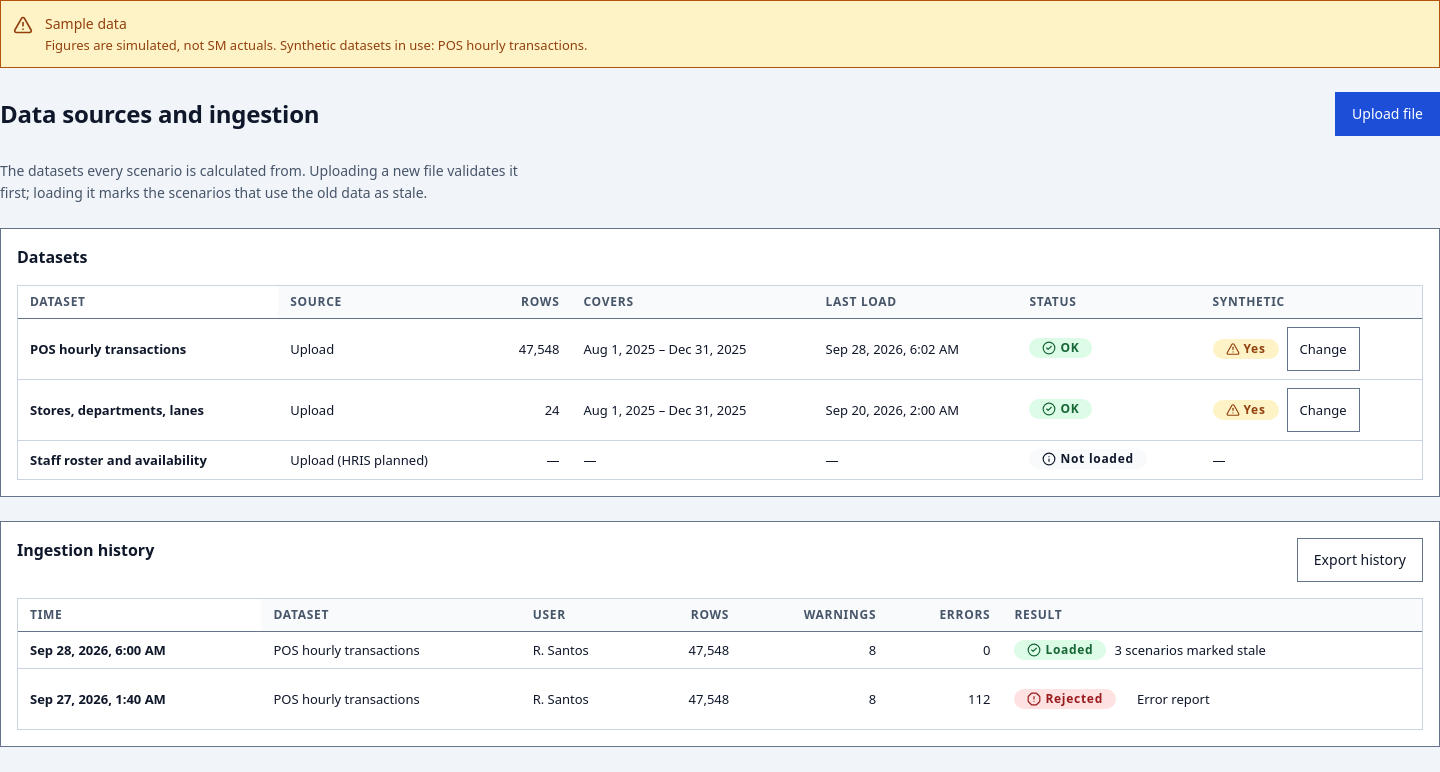
SCR-050 Data sources and ingestion › shows the 403 when the flag change is refused
The width and height of the screenshot is (1440, 772).
Click the button with aria-label "Change the synthetic flag for POS hourly transactions".
click(1323, 349)  # box [1287,327,1360,371]
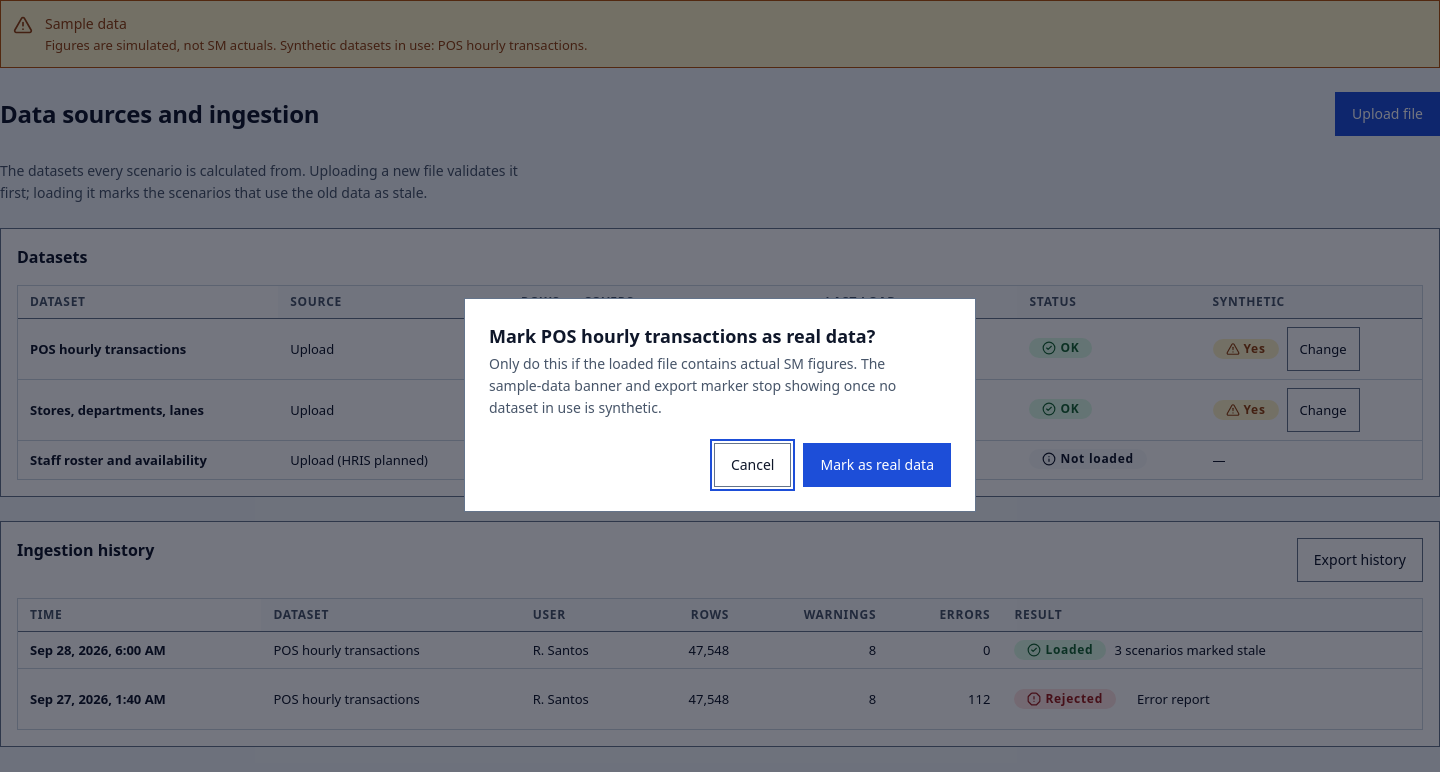
Click the button "Mark as real data".
click(877, 465)  # box [804,443,951,487]
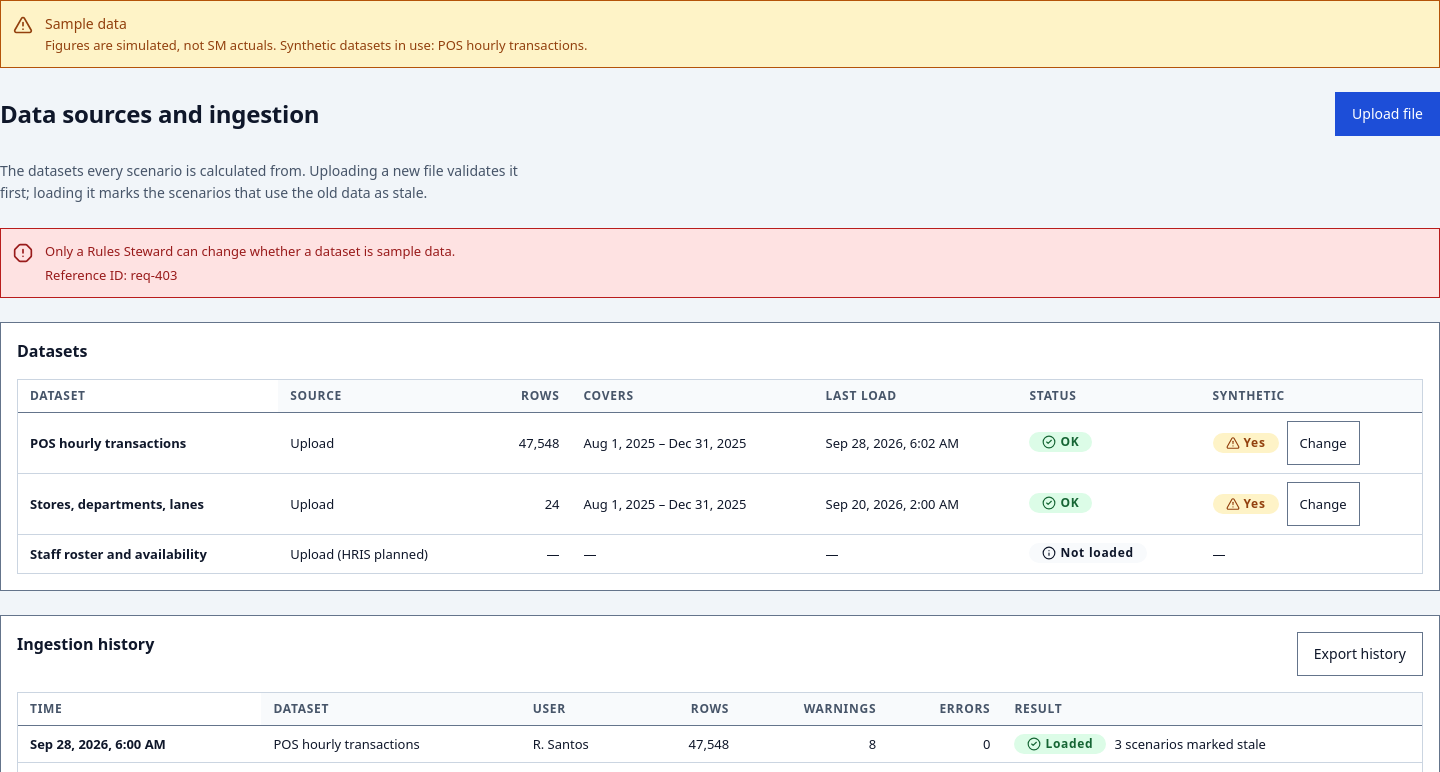
expect the text "Only a Rules Steward can change whether a dataset is sample data." is shown: met, box [45,242,455,260]
expect the text "req-403" is shown: met, box [130,266,177,284]
